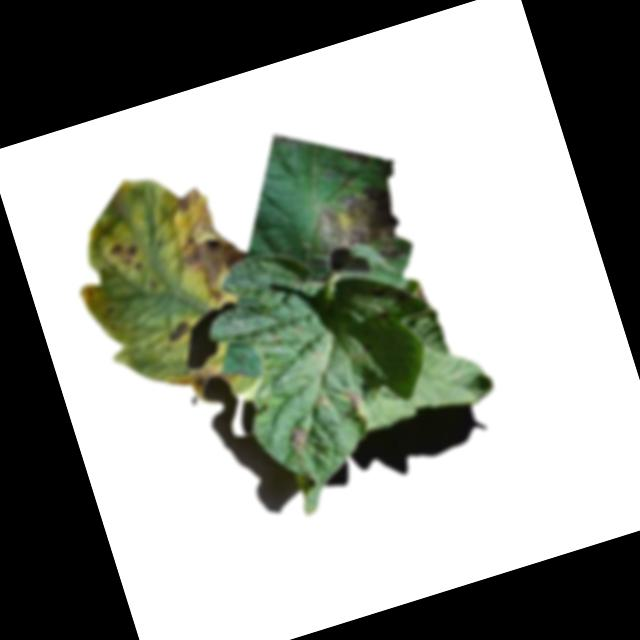Early_blight: (160, 178, 258, 308), (301, 180, 413, 278), (169, 359, 241, 403), (106, 236, 147, 278), (284, 421, 312, 456), (344, 388, 370, 420), (163, 319, 193, 344), (416, 285, 430, 305)
